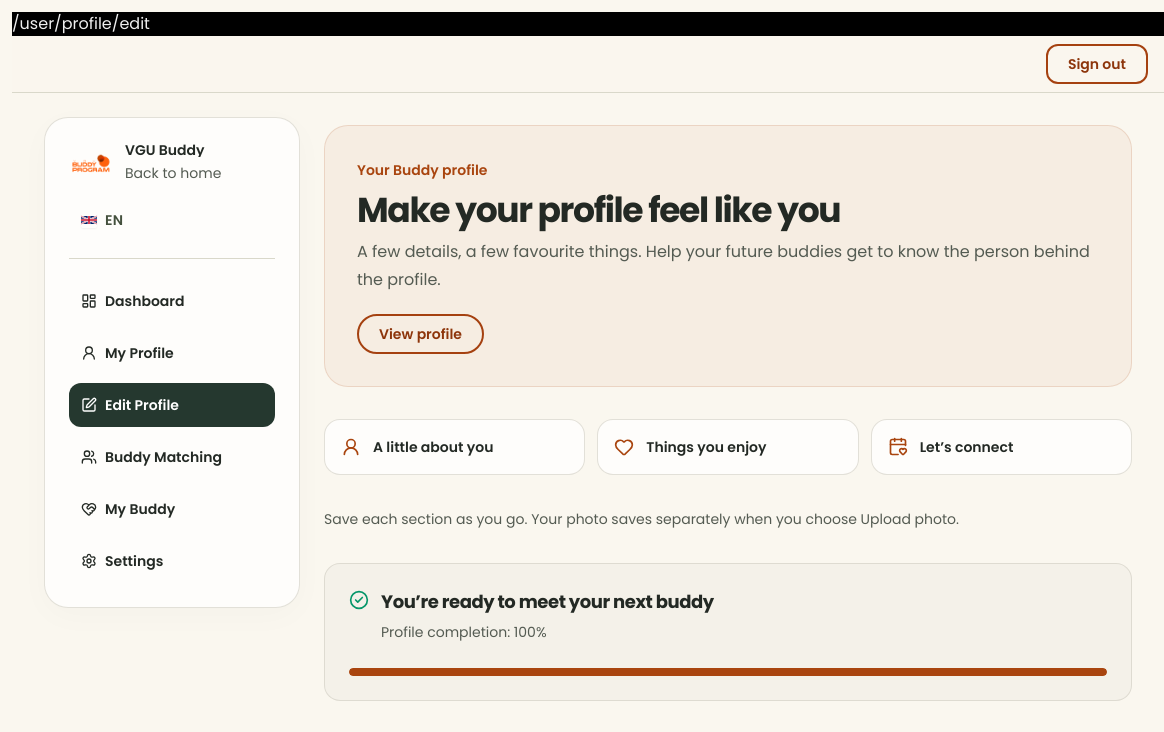
FE-022 navigation in the real guarded App › uses the existing language toggle without losing route, active item or Outlet
Click the button with aria-label "Switch to German".
click(102, 220)  # box [69,202,136,238]
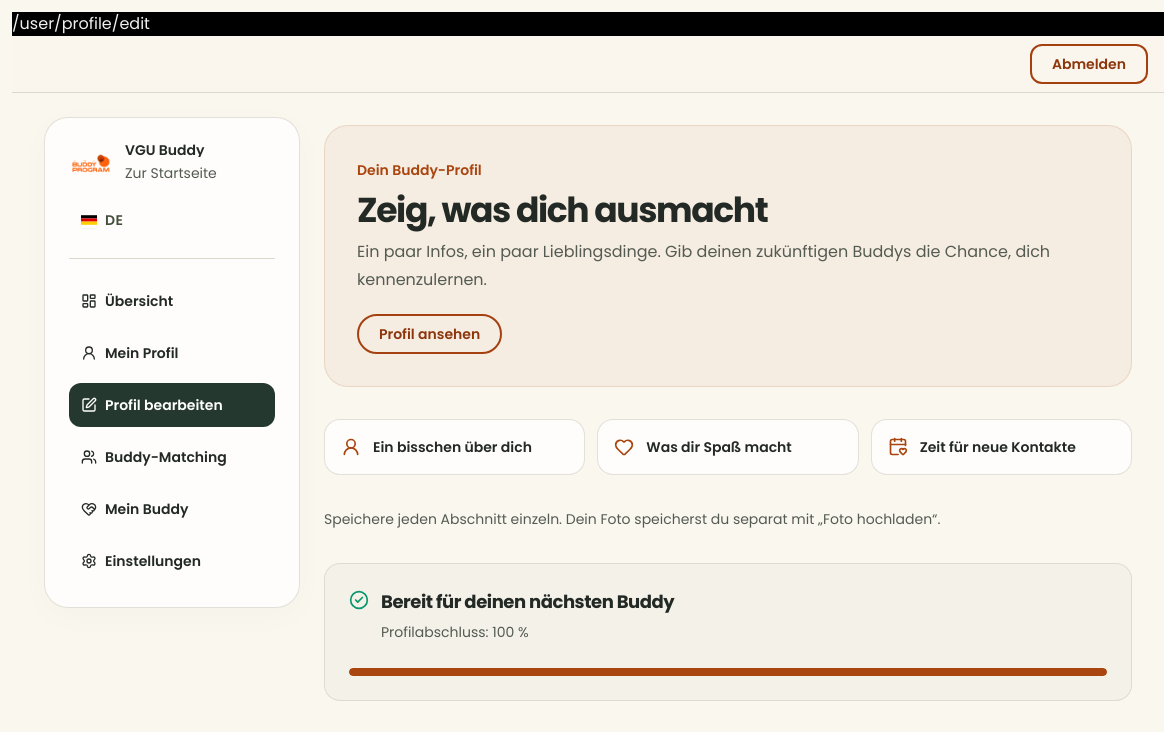
Expected: the text with test id "location" reads "/user/profile/edit", [12,12,150,35]
Expected: the link "Profil bearbeiten" is shown, [69,383,275,427]
Expected: the heading "Zeig, was dich ausmacht" is shown, [357,186,767,234]
